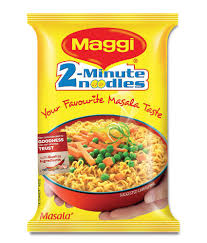maggie: (26, 14, 180, 237)
